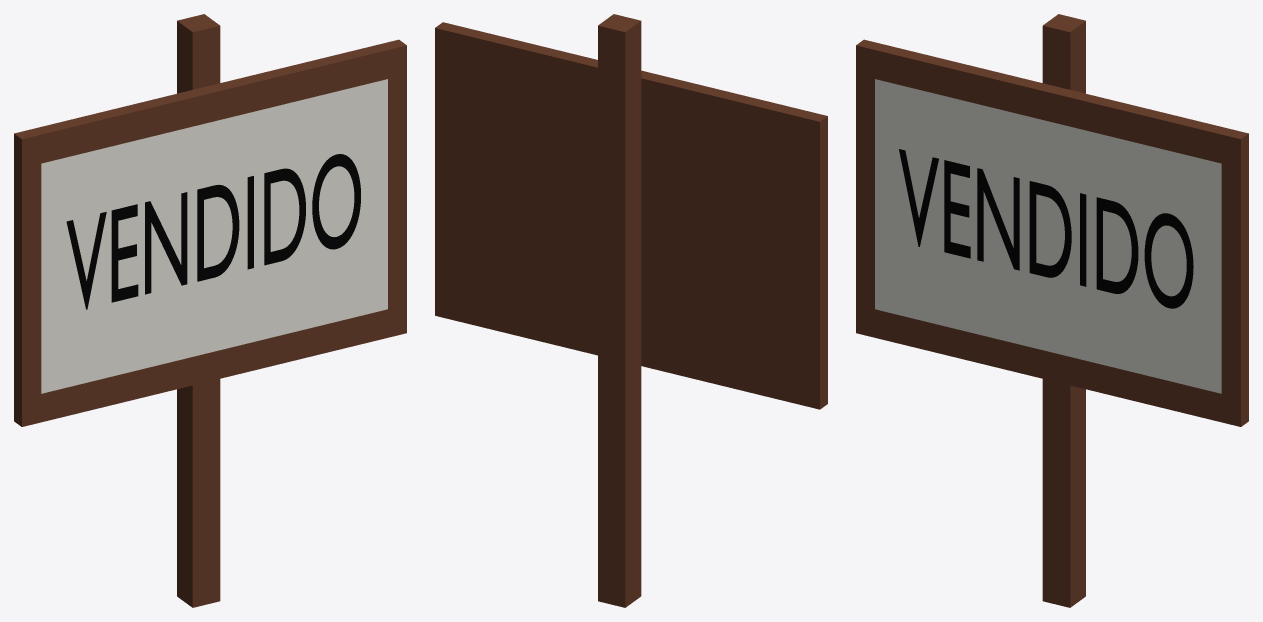
File: Cartel_Vendido.fbx
The picture shows the model from 3 angles, left to right: view 1: azimuth 30°, elevation 25°; view 2: azimuth 150°, elevation 25°; view 3: azimuth 330°, elevation 25°; orthographic projection.
Parts seen in each view (by area): view 1: Plane, Cube.001, Text; view 2: Plane, Cube.001; view 3: Plane, Cube.001, Text.
Part boxes in pixels (<box>): Plane: <box>14,39,406,426</box>; Cube.001: <box>177,14,220,607</box>; Text: <box>66,154,360,309</box>; Plane: <box>435,22,827,409</box>; Cube.001: <box>598,14,641,607</box>; Plane: <box>856,39,1248,426</box>; Cube.001: <box>1042,14,1085,607</box>; Text: <box>899,149,1193,308</box>.
Size of the model in its own units: 140 by 200 by 15.53.
